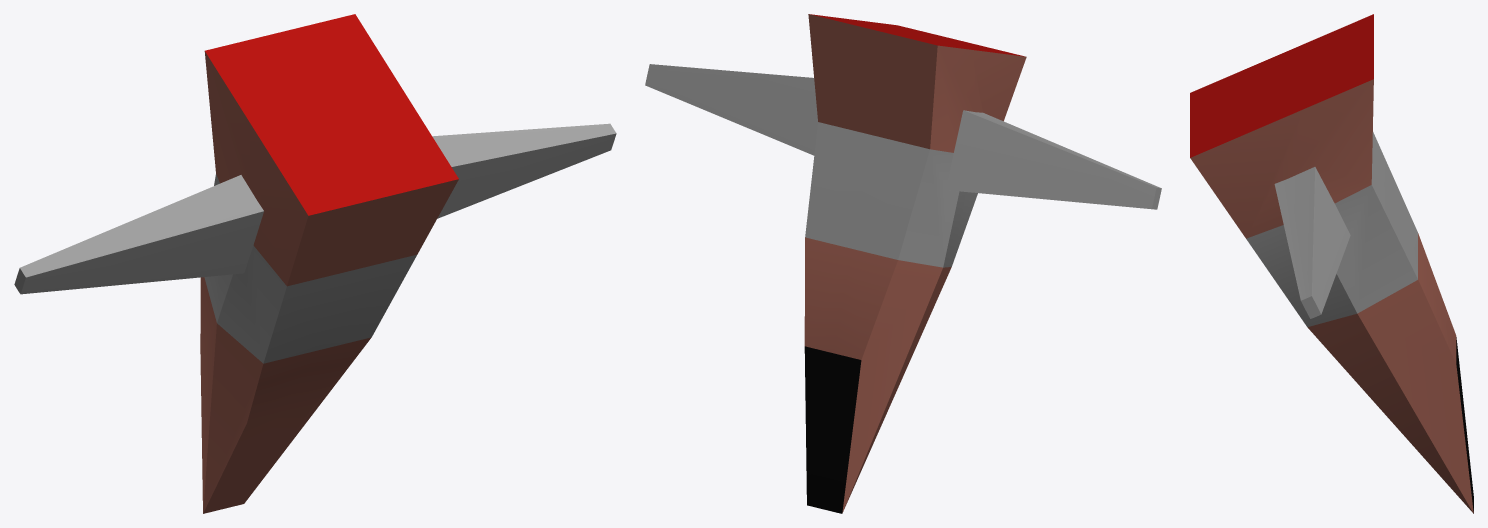
Rendered from space-ship-v1.glb.
3 views of the same model, side by side, from view 1: azimuth 30°, elevation 25°; view 2: azimuth 150°, elevation 25°; view 3: azimuth 270°, elevation 25° (orthographic). The views are drawn at different scales.
Visible parts, largest first — view 1: Cube.001; view 2: Cube.001; view 3: Cube.001.
Boxes of the visible parts, <box> form: Cube.001: <box>14,14,616,513</box>; Cube.001: <box>645,14,1161,513</box>; Cube.001: <box>1190,14,1473,513</box>.
Size of the model in its own units: 4.6 by 3.85 by 2.16.
